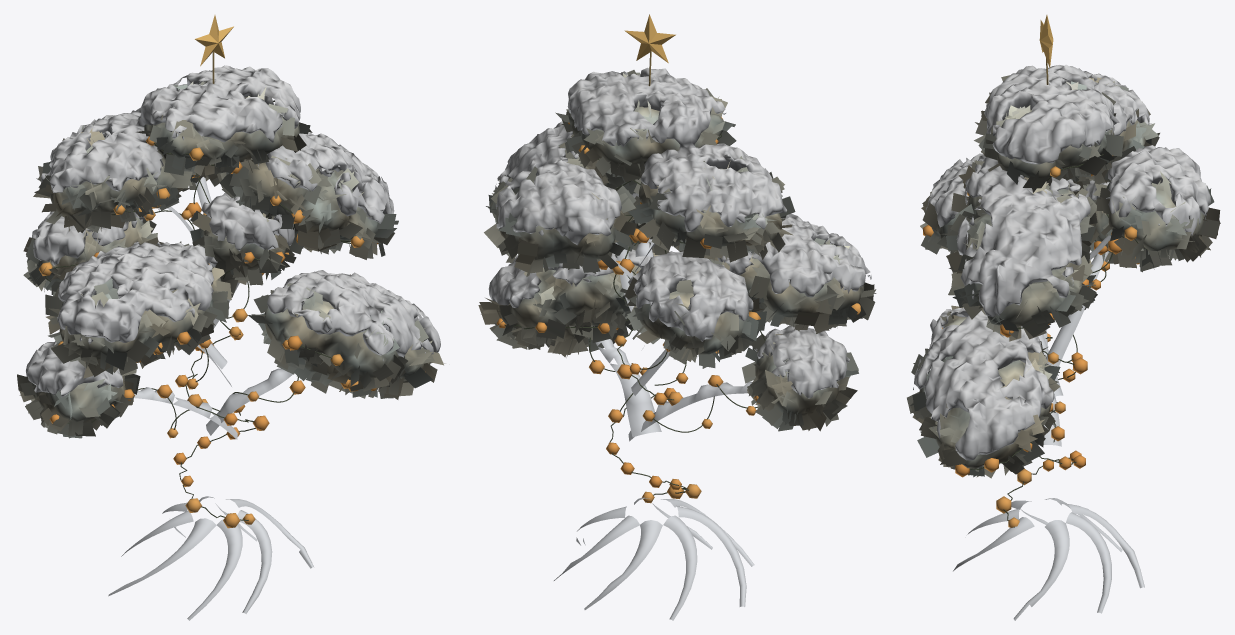
File: tree-crown.glb
The picture shows the model from 3 angles, left to right: view 1: azimuth 30°, elevation 25°; view 2: azimuth 150°, elevation 25°; view 3: azimuth 270°, elevation 25°; orthographic projection.
Visible parts, largest first — view 1: needles, snow, arrival, lights; view 2: snow, needles, arrival, lights; view 3: snow, needles, arrival, lights.
Part boxes in pixels (bbox=[...]): needles: bbox=[17, 81, 445, 438]; snow: bbox=[26, 65, 440, 397]; arrival: bbox=[108, 177, 313, 620]; lights: bbox=[38, 15, 378, 528]; snow: bbox=[488, 67, 871, 398]; needles: bbox=[478, 70, 876, 431]; arrival: bbox=[554, 238, 754, 620]; lights: bbox=[496, 14, 860, 503]; snow: bbox=[913, 64, 1210, 460]; needles: bbox=[907, 75, 1220, 478]; arrival: bbox=[953, 235, 1144, 620]; lights: bbox=[923, 15, 1147, 527].
Size of the model in its own units: 34.69 by 48.89 by 24.62.
